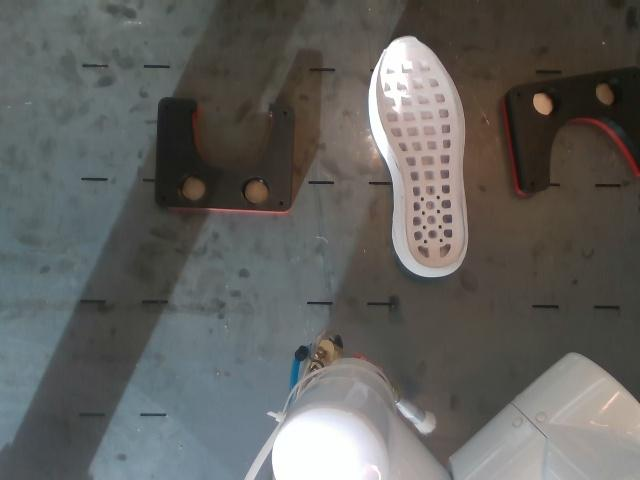shoes: (376, 38, 466, 268)
